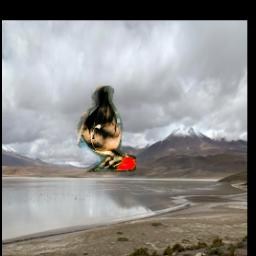Woodpecker: (75, 86, 136, 172)
